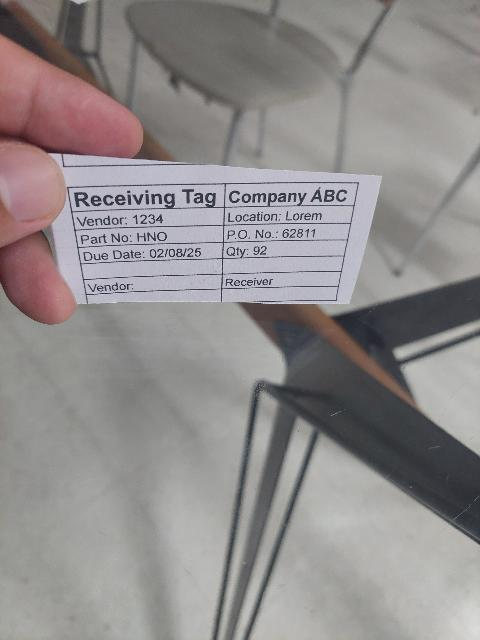PO no: (224, 222, 351, 242)
part no: (75, 225, 224, 247)
qty: (222, 240, 349, 259)
tags: (41, 153, 382, 309)
